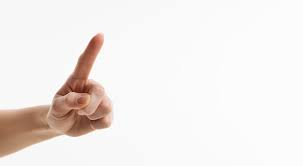pointing_gesture: (35, 32, 116, 138)
